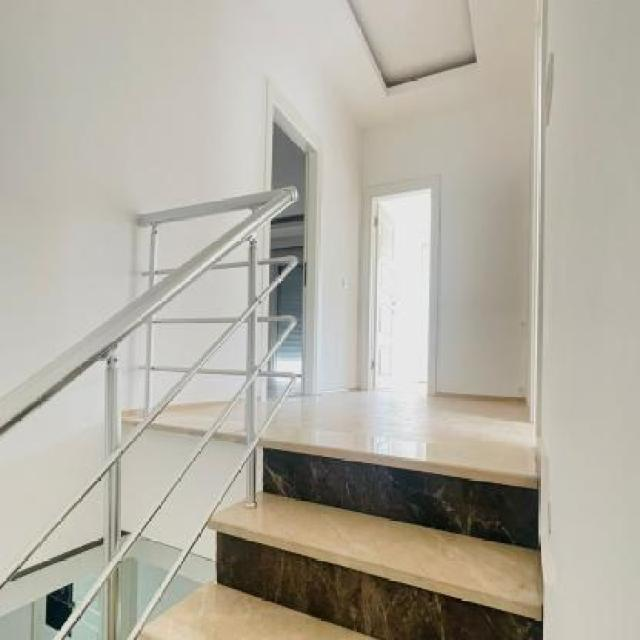stair: (6, 411, 549, 640)
